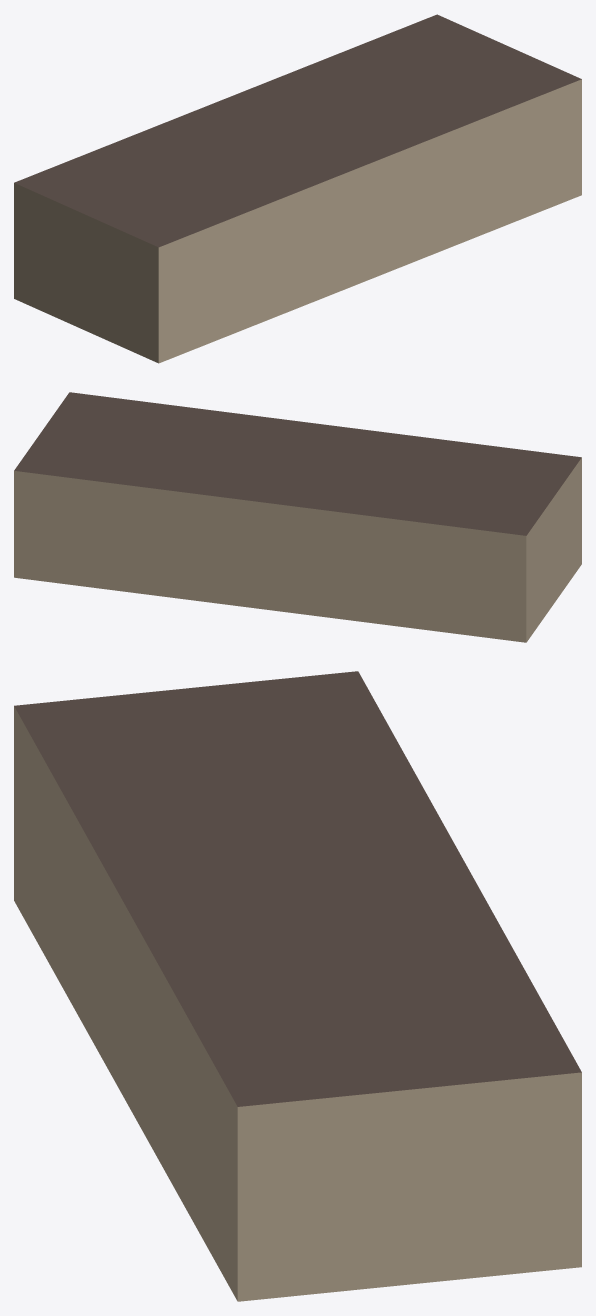
3 renders of one model, top to bottom at view 1: azimuth 30°, elevation 25°; view 2: azimuth 150°, elevation 25°; view 3: azimuth 270°, elevation 25°, orthographic. The views are drawn at different scales.
Visible parts, largest first — view 1: HP-w293416981; view 2: HP-w293416981; view 3: HP-w293416981.
Boxes of the visible parts, bbox=[...] form: HP-w293416981: bbox=[14, 14, 581, 363]; HP-w293416981: bbox=[14, 392, 581, 642]; HP-w293416981: bbox=[14, 671, 581, 1301].
Size of the model in its own units: 43.18 by 9 by 23.78.
